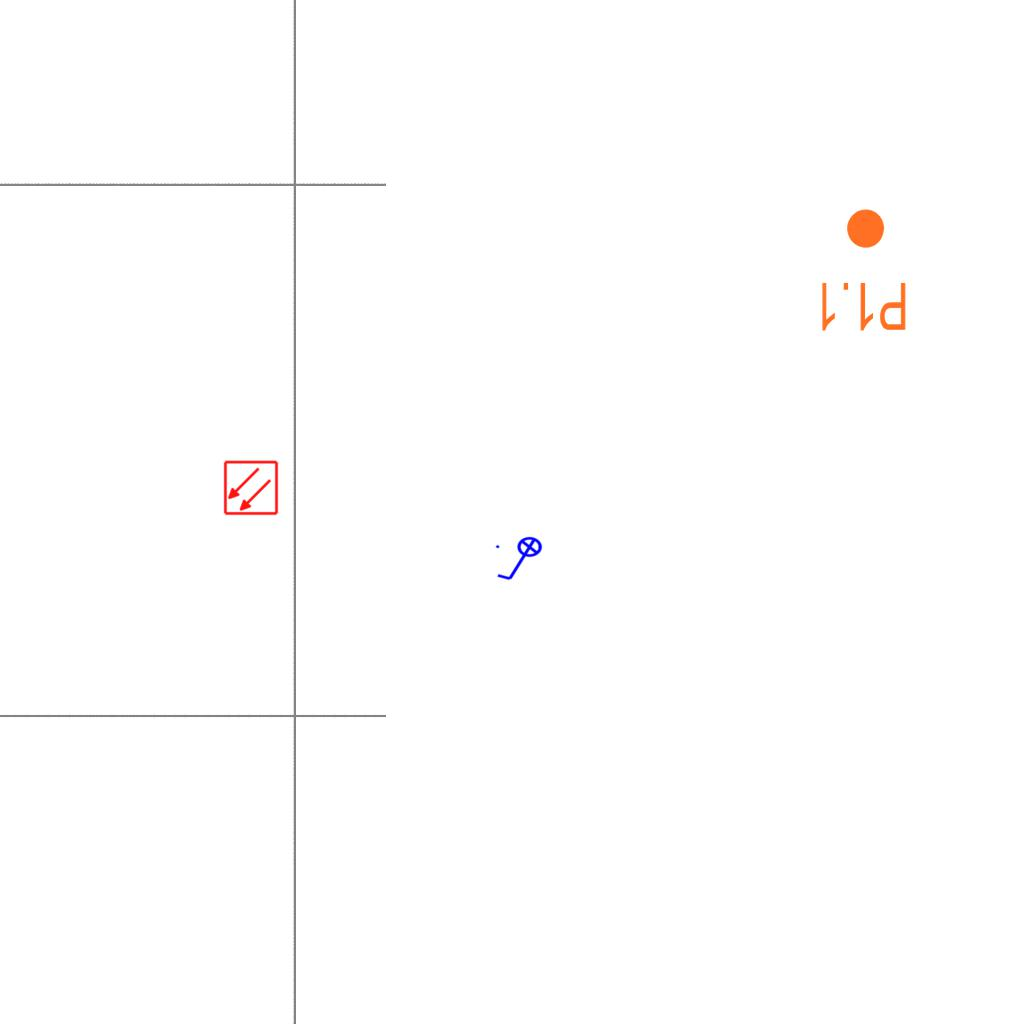Ausschalter_beleuchtet: (493, 536, 549, 584)
Downlight_LED_Einbauleuchten_Flur: (816, 206, 909, 334)
RMO_Rauchmelder_optischer: (223, 460, 279, 516)
